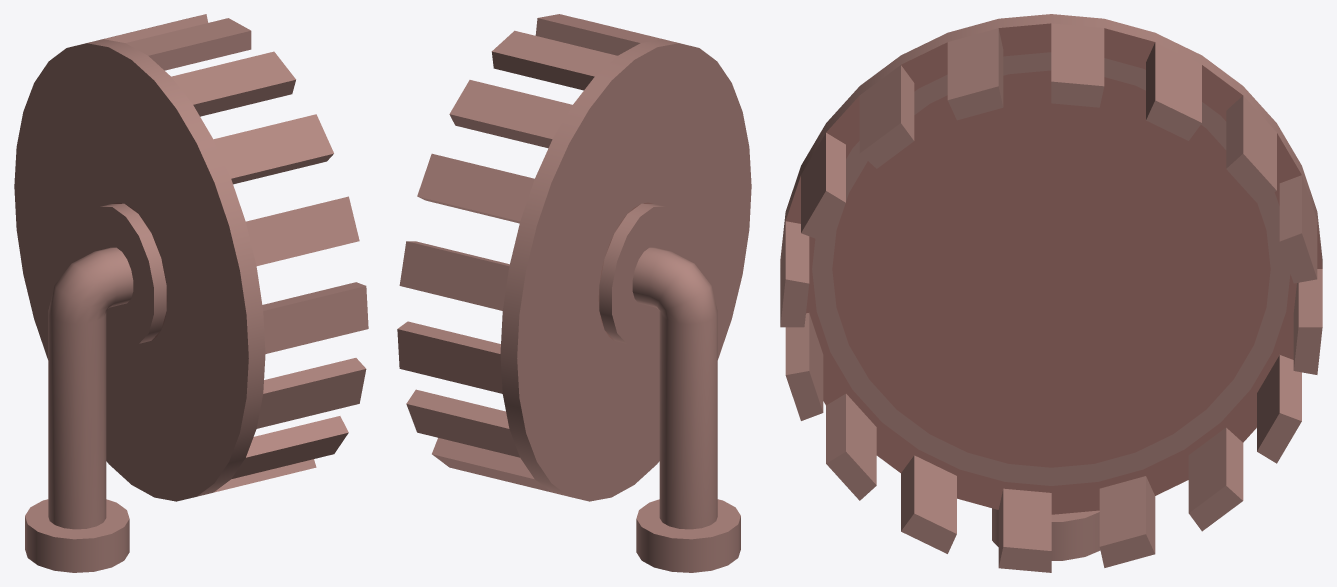
File: Closed.WheelieRun.fbx
3 views of the same model, side by side, from view 1: azimuth 30°, elevation 25°; view 2: azimuth 150°, elevation 25°; view 3: azimuth 270°, elevation 25° (orthographic). The views are drawn at different scales.
Parts seen in each view (by area): view 1: ClosedWheelie; view 2: ClosedWheelie; view 3: ClosedWheelie.
Part boxes in pixels (bbox=[...]): ClosedWheelie: bbox=[14, 14, 368, 572]; ClosedWheelie: bbox=[397, 14, 751, 572]; ClosedWheelie: bbox=[780, 14, 1322, 572].
Size of the model in its own units: 4.24 by 8.85 by 7.88.
